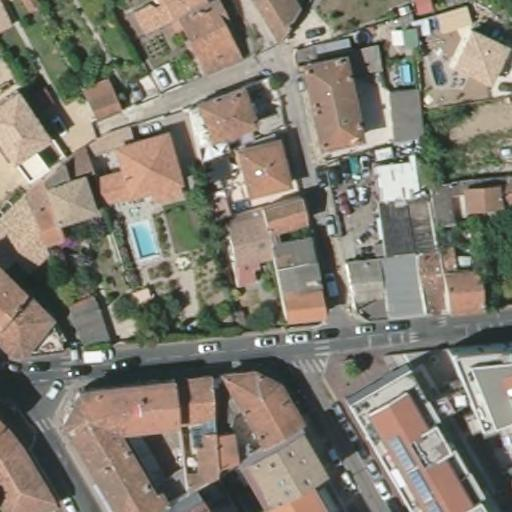pool: (126, 219, 164, 258), (391, 61, 413, 86)
